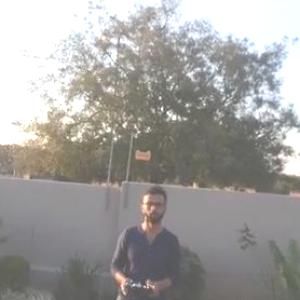follow: (99, 180, 186, 299)
